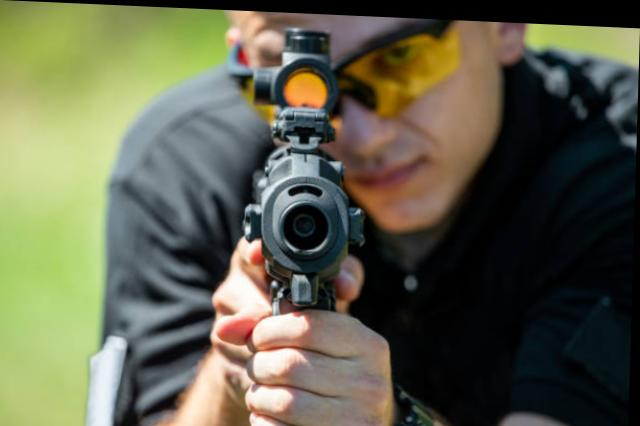other: (113, 11, 633, 424)
